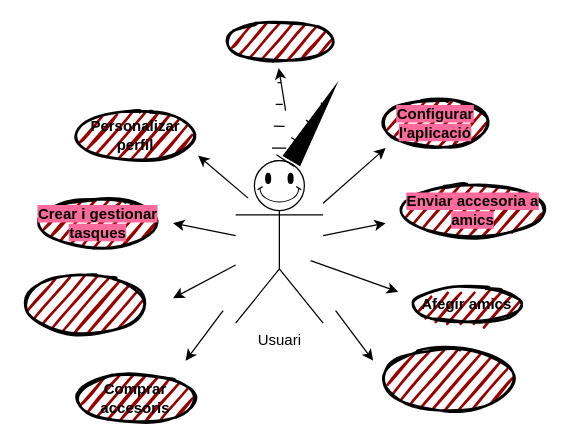
Some shapes in this 570 by 445 pixel diagram are drawn without their labels. The centre of each missing label's shape, as x and y in pixels:
"Consultar altres perfils" goes at point 448,378.
"Crear i gestionar rutines" goes at point 85,303.
"Iniciar sessió" goes at point 278,41.
